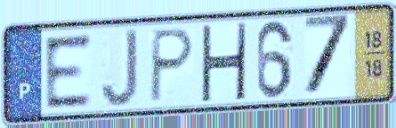6: (254, 17, 296, 102)
7: (302, 12, 353, 100)
E: (42, 31, 94, 112)
H: (198, 22, 249, 102)
J: (99, 25, 141, 110)
P: (146, 26, 197, 106)
